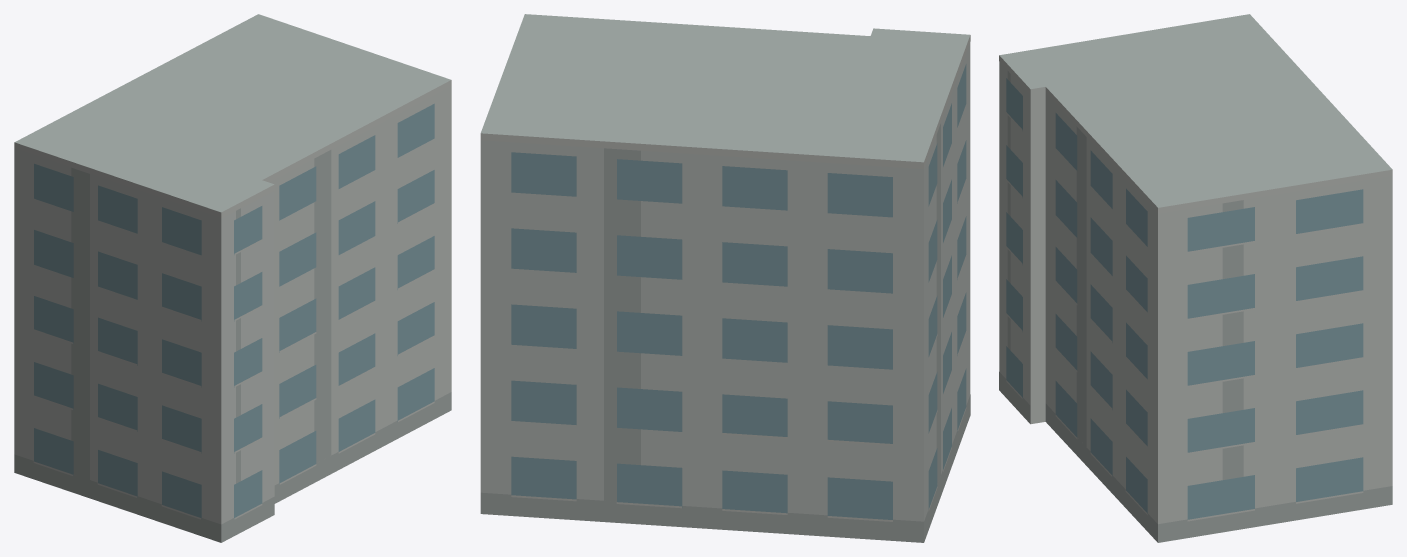
File: survey-upis-32935943.glb
3 renders of one model, left to right at view 1: azimuth 30°, elevation 25°; view 2: azimuth 150°, elevation 25°; view 3: azimuth 270°, elevation 25°, orthographic. The views are drawn at different scales.
Parts seen in each view (by area): view 1: survey-upis-32935943.tmp; view 2: survey-upis-32935943.tmp; view 3: survey-upis-32935943.tmp.
Part boxes in pixels (bbox=[...]): survey-upis-32935943.tmp: bbox=[14, 14, 451, 542]; survey-upis-32935943.tmp: bbox=[480, 14, 970, 542]; survey-upis-32935943.tmp: bbox=[999, 14, 1392, 542].
Size of the model in its own units: 16.64 by 13.4 by 14.27.
